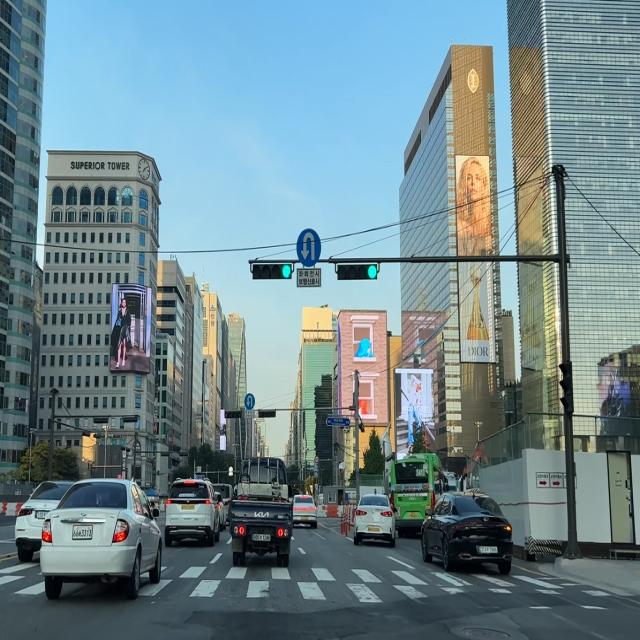Green Light: (281, 263, 292, 279), (366, 264, 378, 278)
